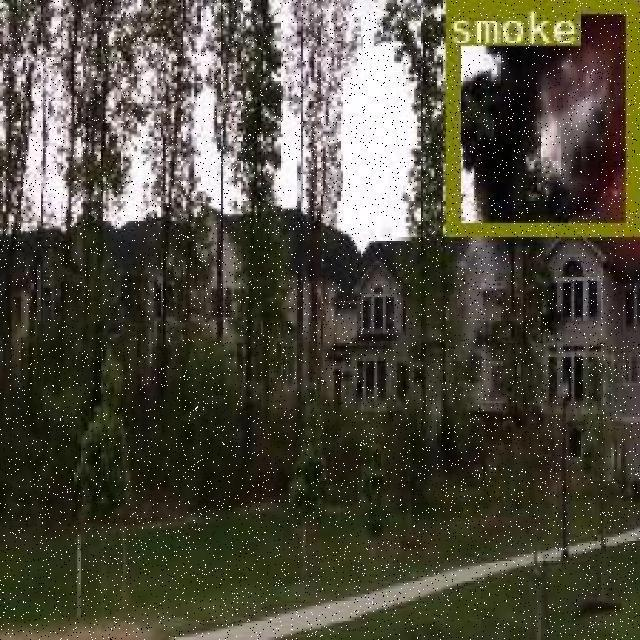Smoke: (476, 0, 601, 231)
